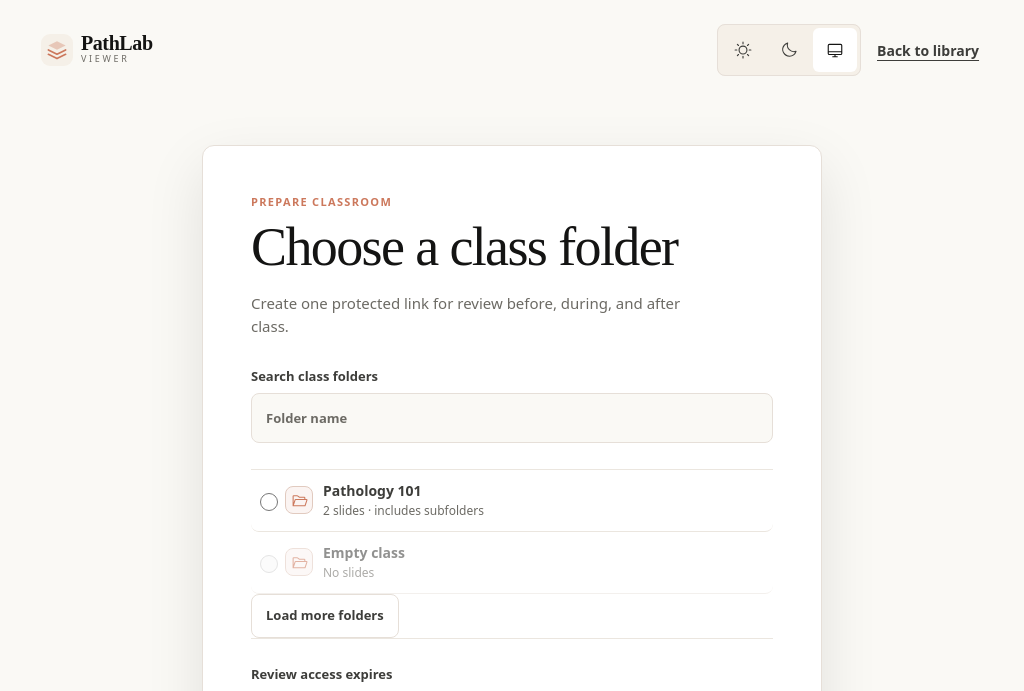
Test: Classroom folder setup › selects one folder and starts the classroom with every eligible descendant slide
The image size is (1024, 691).
Expected: the icon next to "Pathology 101" is shown, x1=290 y1=492 x2=308 y2=508
Expected: the radio button labelled "Empty class No slides" is disabled, x1=260 y1=554 x2=278 y2=572
Click the button "Load more folders": (325, 616) x1=251 y1=594 x2=399 y2=638
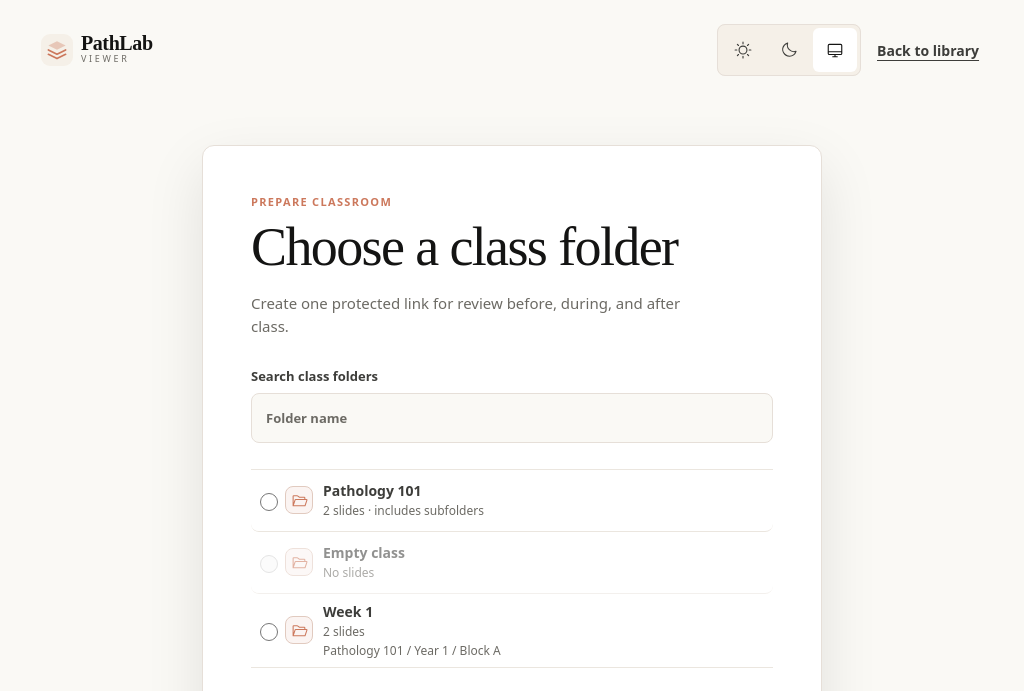
Expected: the radio button labelled "Week 1 2 slides Pathology 101 / Year 1 / Block A" is enabled, x1=260 y1=623 x2=278 y2=641
Click the radio button labelled "Pathology 101 2 slides · includes subfolders": (269, 502) x1=260 y1=492 x2=278 y2=510
(page scrolled)
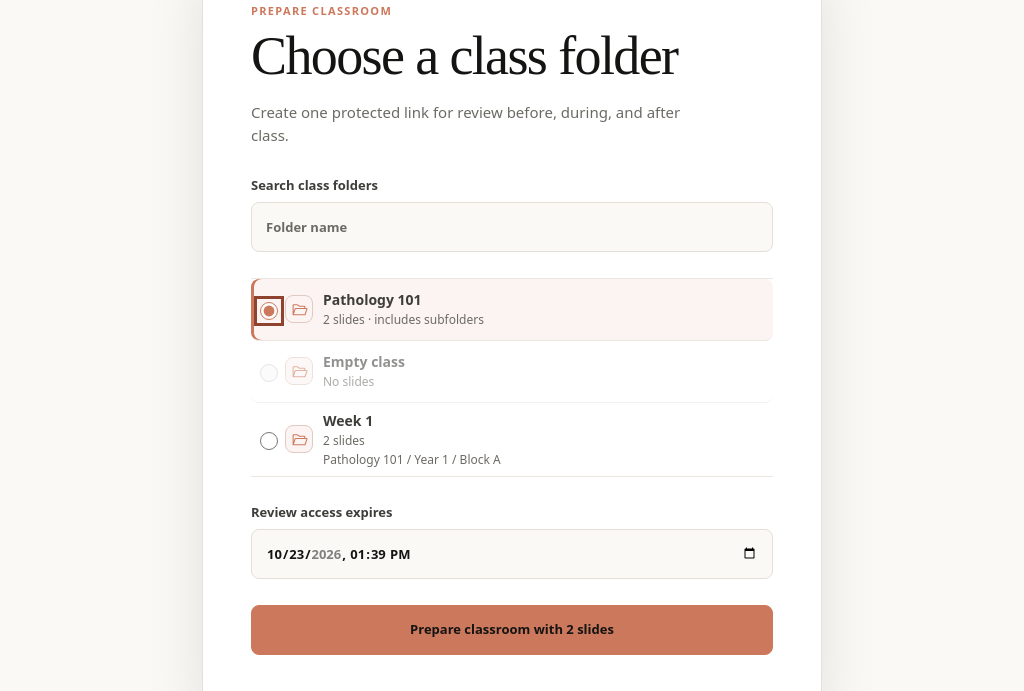
Click the button "Prepare classroom with 2 slides": (512, 630) x1=251 y1=605 x2=773 y2=655
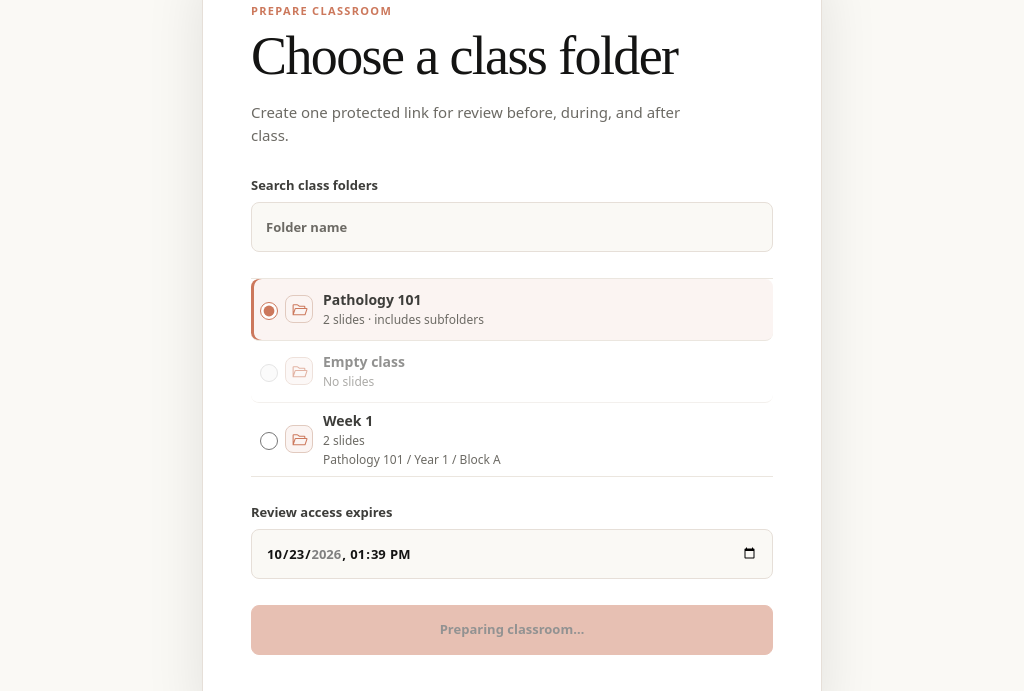
Expected: the button "Preparing classroom…" is disabled, x1=251 y1=605 x2=773 y2=655
